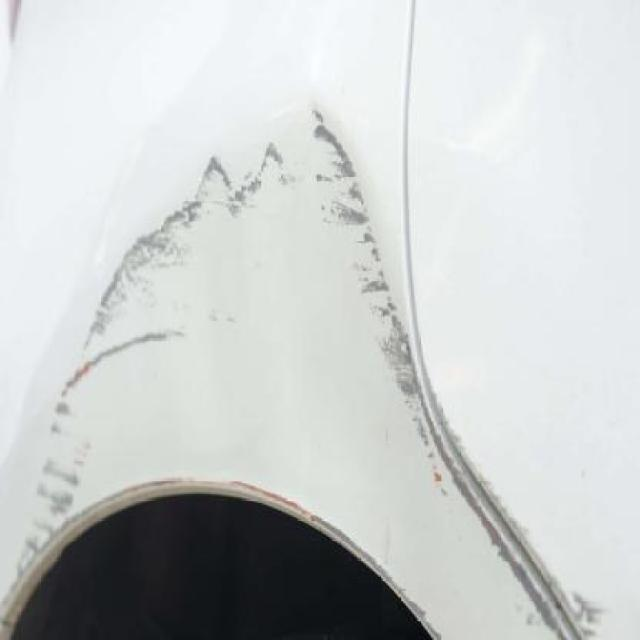scratch: (28, 112, 396, 308), (355, 310, 536, 569), (0, 309, 180, 567)
